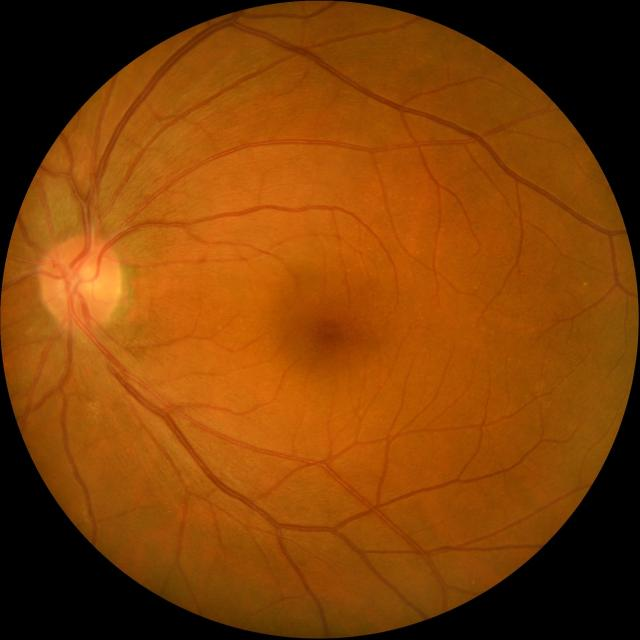OC: (65, 263, 101, 299)
OD: (40, 234, 120, 330)
